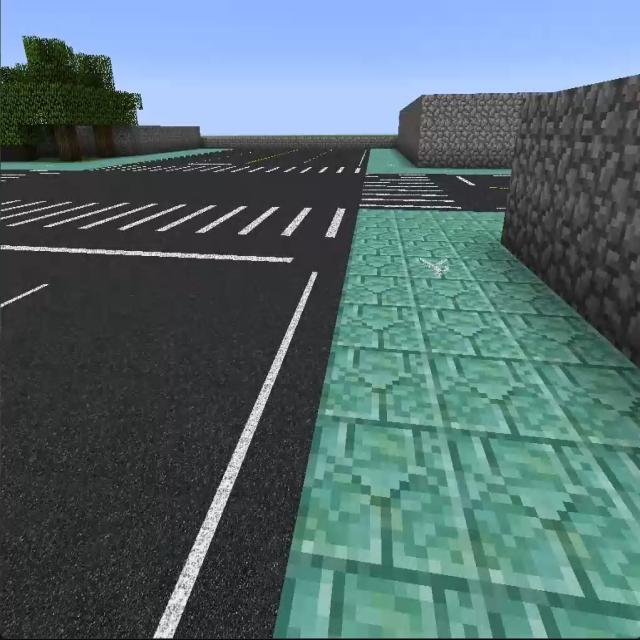crosswalk: (3, 192, 354, 251), (355, 172, 471, 207), (92, 164, 363, 176)
road: (7, 237, 338, 634), (19, 172, 353, 199), (181, 147, 368, 163), (447, 175, 509, 208)
sidewalk: (282, 212, 639, 631), (0, 149, 220, 172), (367, 149, 510, 175)
